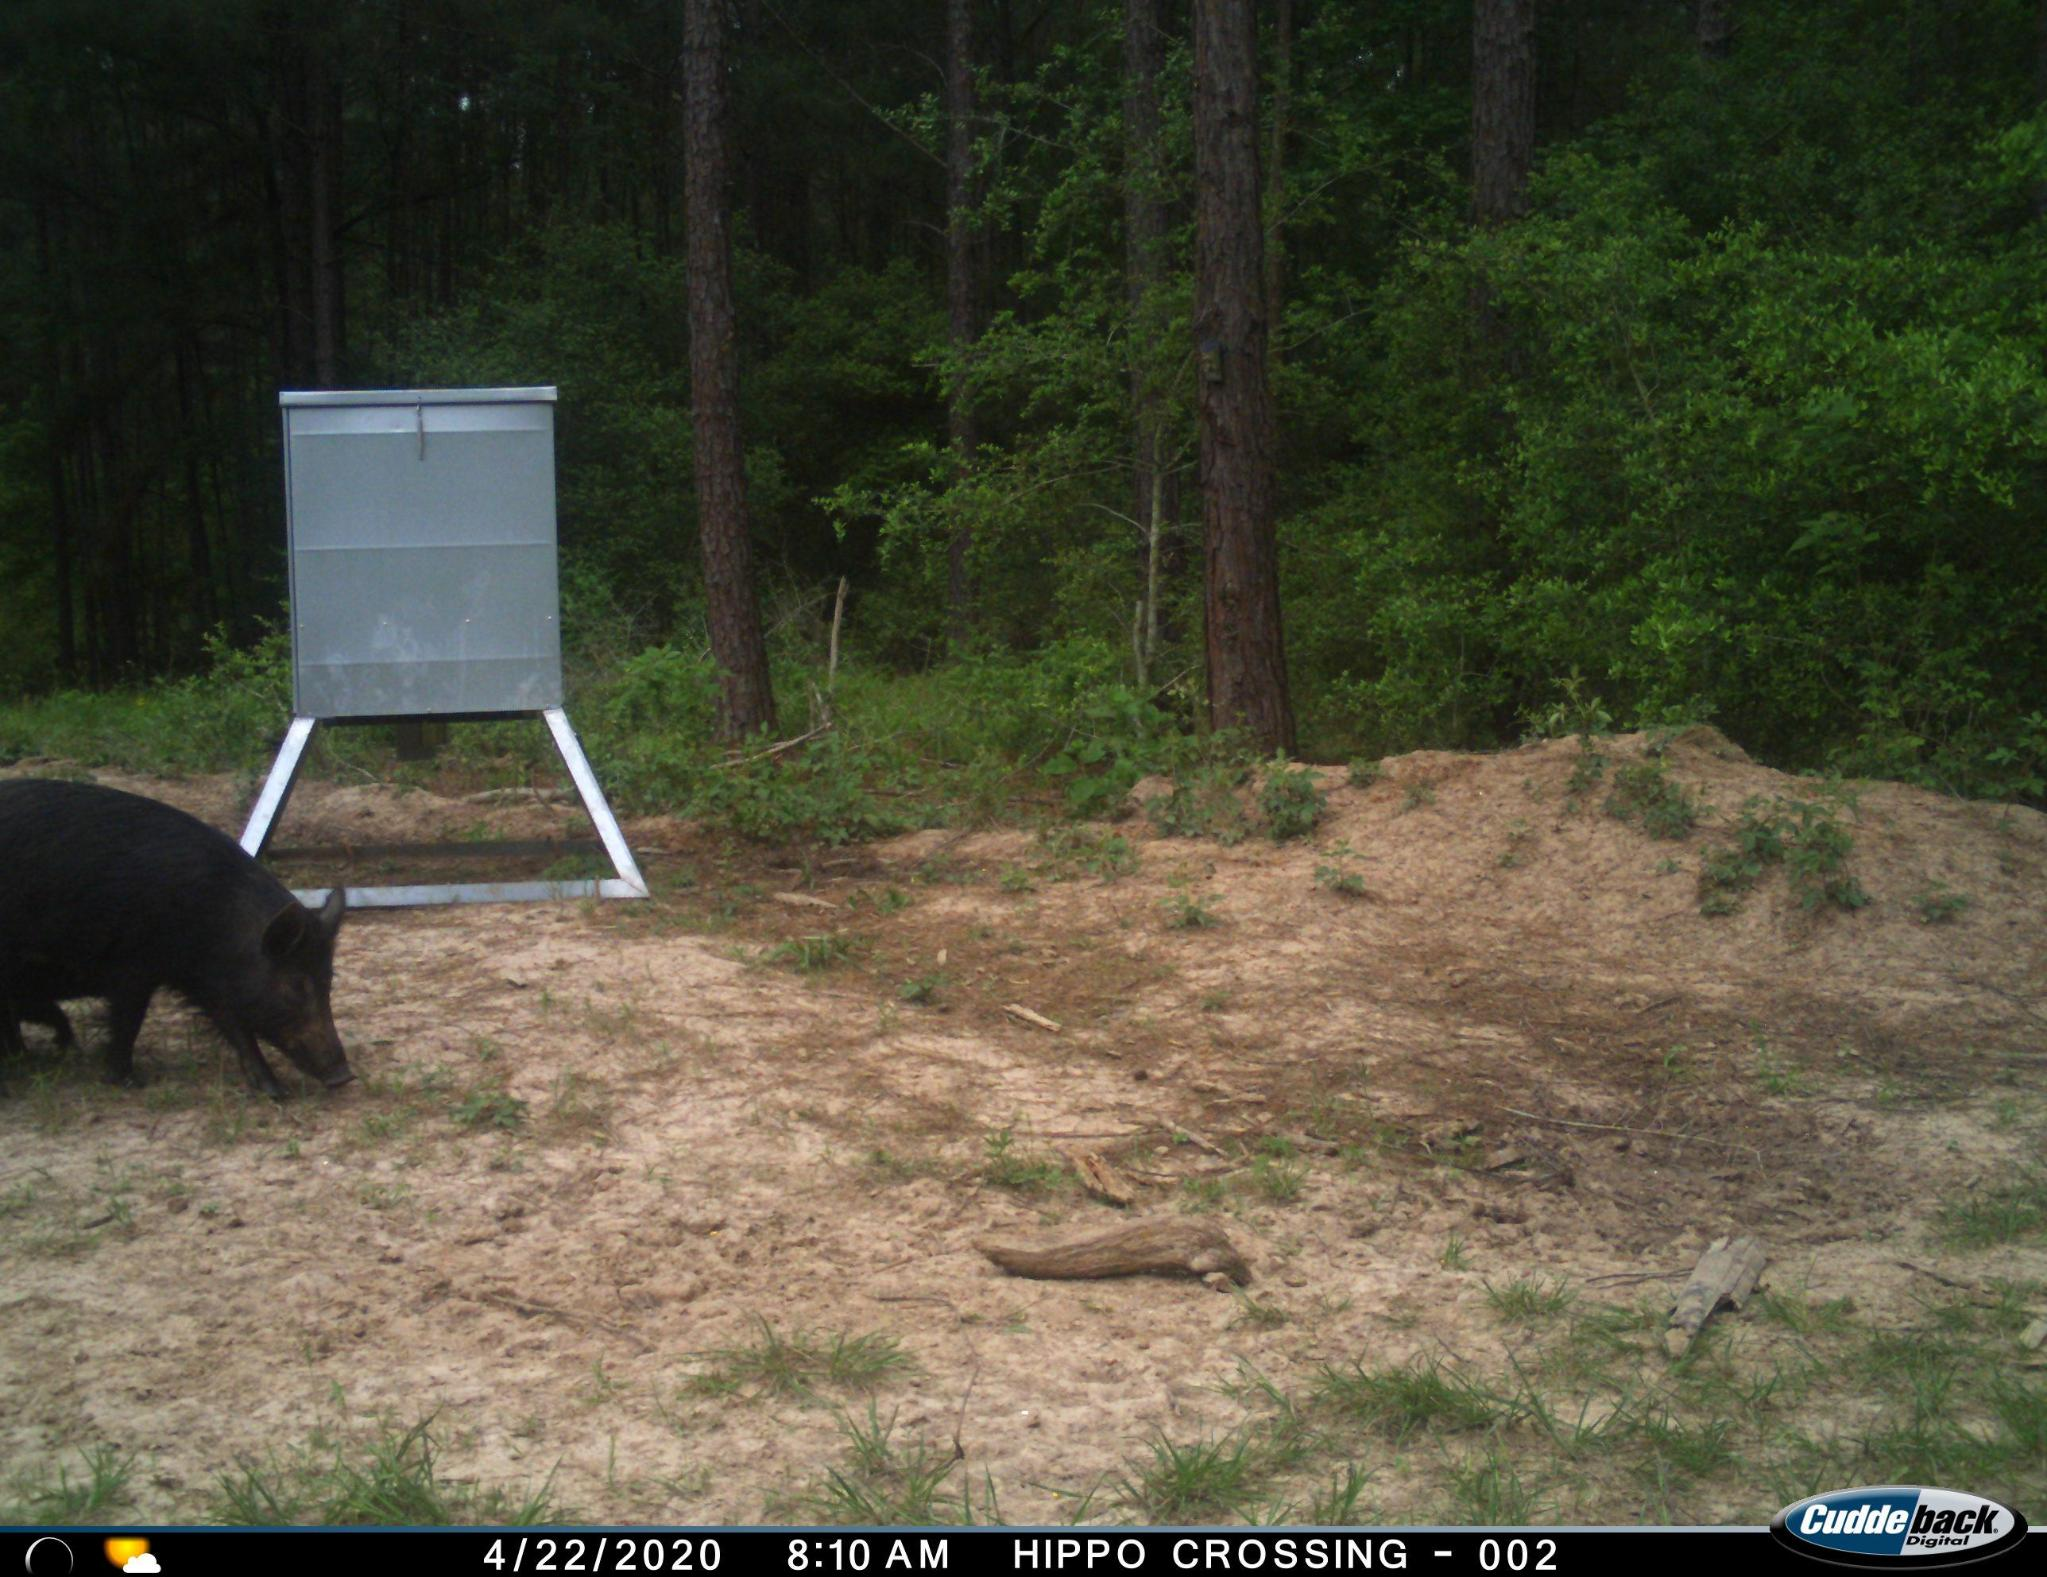Hog: (0, 770, 388, 1105)
